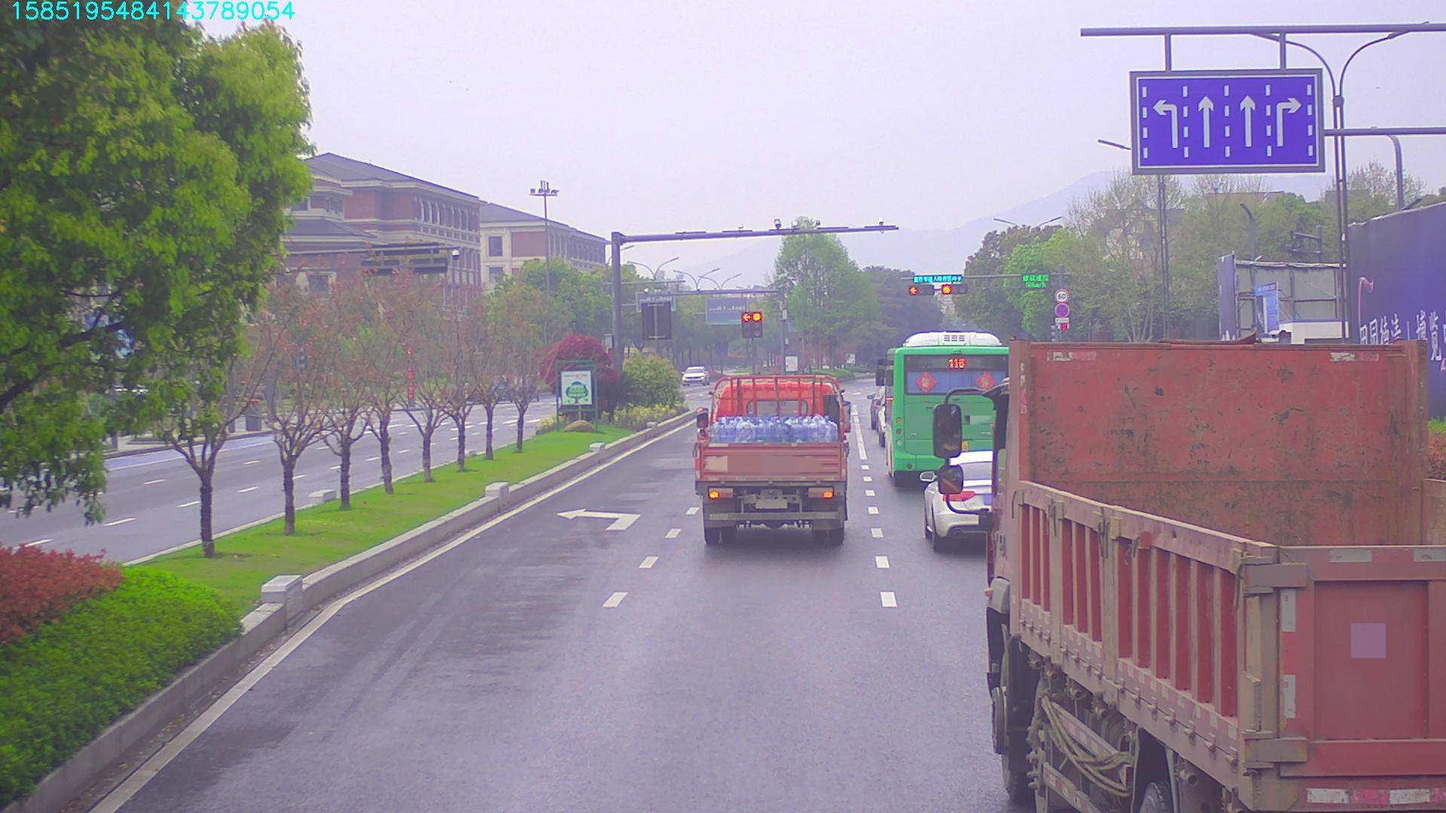red: (905, 282, 931, 299), (933, 286, 961, 294)
wait_on: (913, 271, 966, 282)
